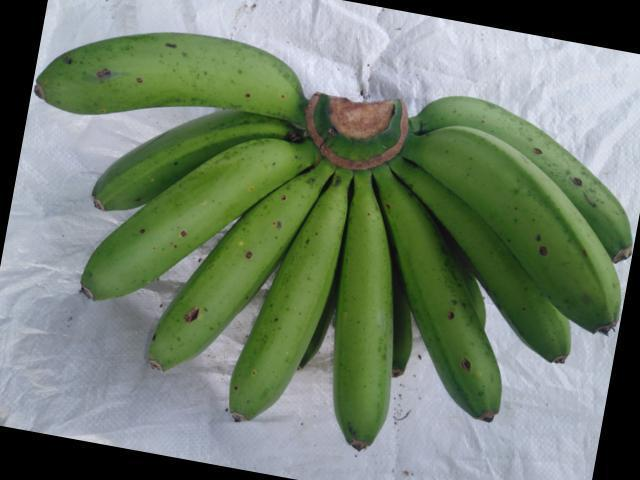unripe: (434, 125, 639, 350), (31, 0, 318, 137), (217, 213, 353, 435), (310, 188, 409, 457)
